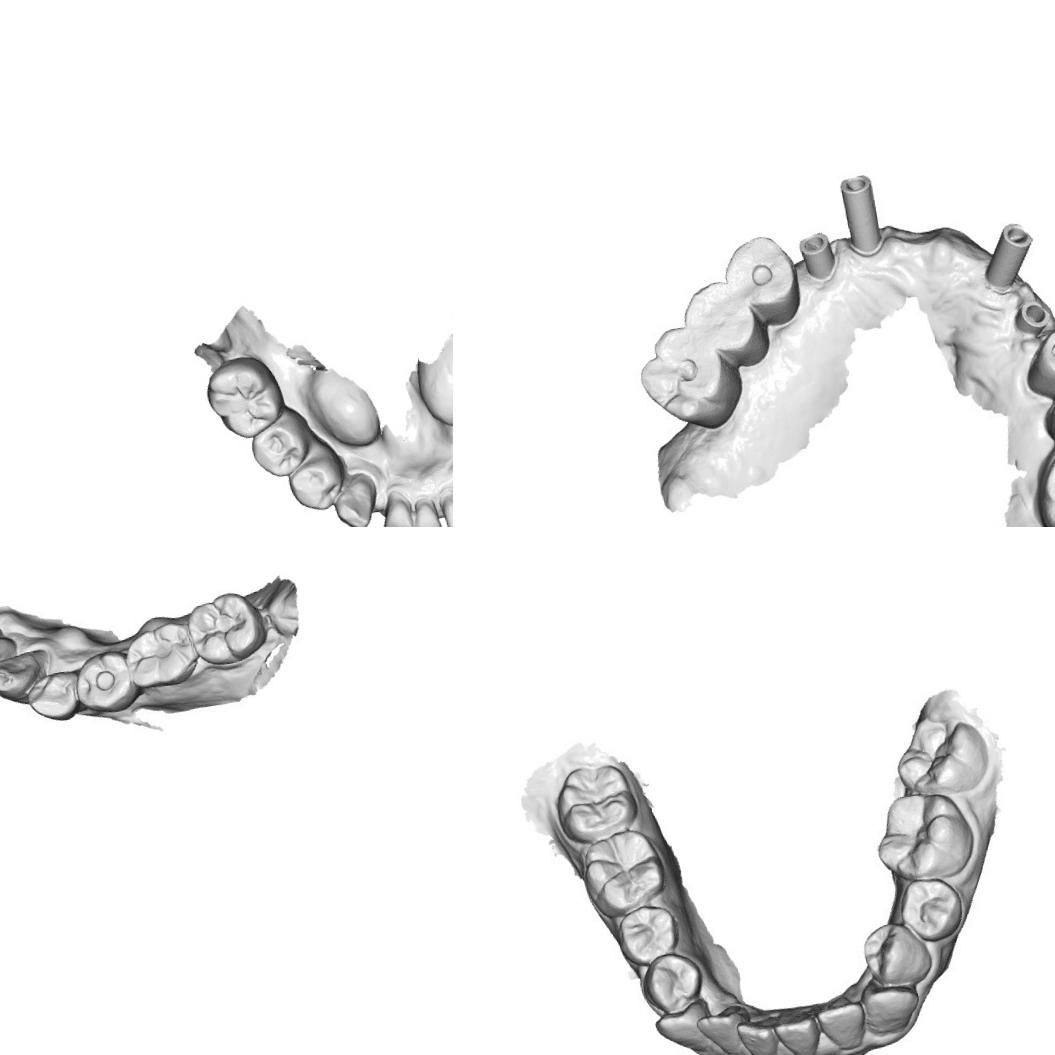canine: (654, 998, 722, 1055), (864, 977, 925, 1037), (0, 646, 57, 703), (329, 477, 379, 527)
implant: (978, 225, 1042, 296), (835, 170, 884, 258), (794, 228, 842, 286), (1008, 291, 1052, 335)
incisor: (699, 1001, 756, 1055), (818, 1000, 873, 1052), (775, 1007, 829, 1055), (737, 1012, 789, 1055), (376, 496, 418, 527), (409, 498, 446, 527), (0, 631, 19, 686), (438, 491, 453, 527)
molar: (632, 318, 752, 447), (887, 706, 994, 798), (872, 789, 979, 880), (198, 350, 292, 445), (578, 827, 672, 912), (552, 756, 634, 834), (184, 591, 262, 670), (124, 619, 206, 694)
premolar: (682, 279, 759, 355), (861, 916, 937, 988), (723, 234, 794, 310), (246, 412, 315, 482), (284, 450, 350, 516), (896, 874, 964, 938), (74, 650, 137, 713), (27, 664, 84, 727), (619, 904, 680, 962), (641, 952, 700, 1011), (1029, 309, 1055, 386)
